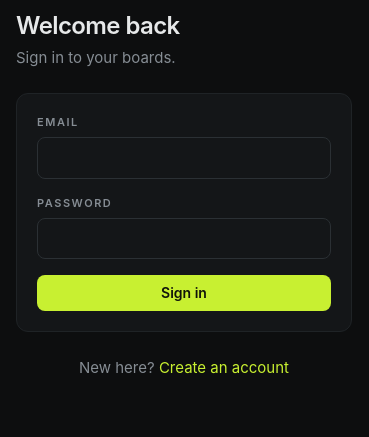
Test case: the login page › says so on the form when there were too many attempts, and keeps the email
Type "ada@example.test" into the field labelled "Email" at (184,158), box [37,137,331,179]
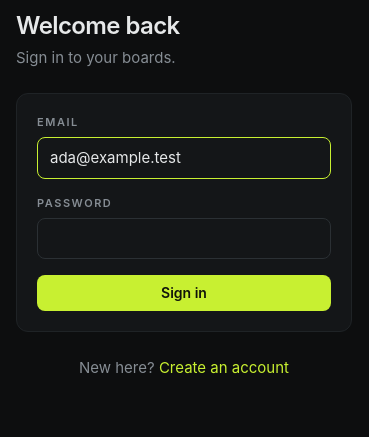
Type "not it" into the password field labelled "Password" at (184,238), box [37,218,331,259]
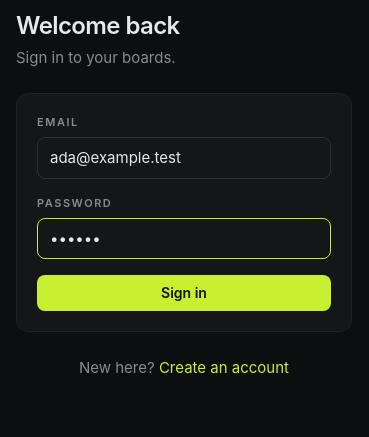
Click the button "Sign in" at (184,293), box [37,275,331,311]
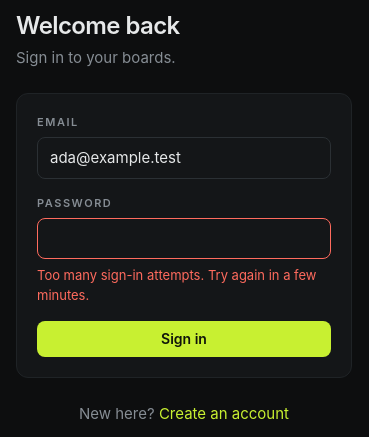
expect the text "Too many sign-in attempts. Try again in a few minutes." is shown: met, box [37,265,331,305]
